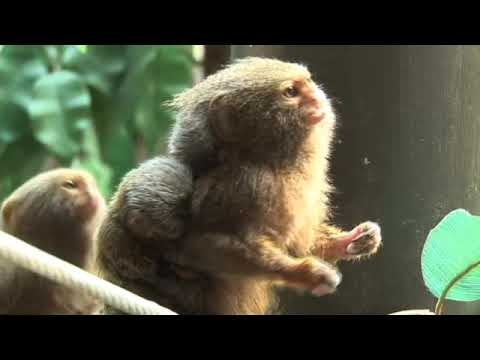PygmyMarmoset: (120, 59, 353, 318), (9, 170, 106, 317)
